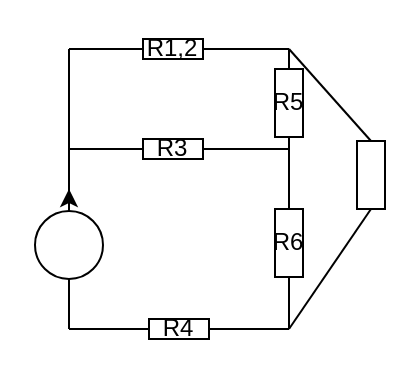
Some shapes in this 420 by 376 pixel diagram are drawn without their labels. Here are the shapes that lost their labels. From the top down, the centre of each, then its label:
At point (370, 174): "R7 R8".
At point (68, 244): "E1".
